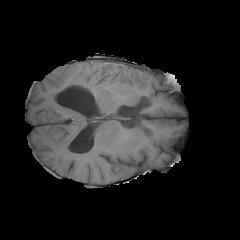glioma: (48, 63, 125, 103)
